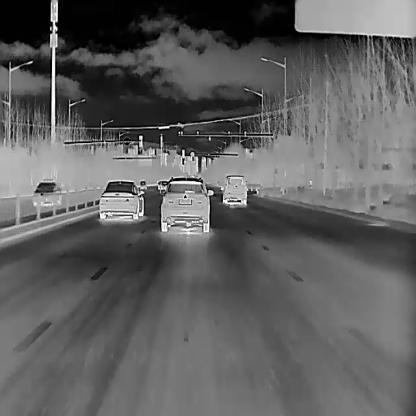car: (159, 175, 213, 231), (98, 180, 143, 219), (220, 174, 246, 206), (33, 177, 61, 206), (156, 180, 168, 190), (139, 180, 147, 190)
